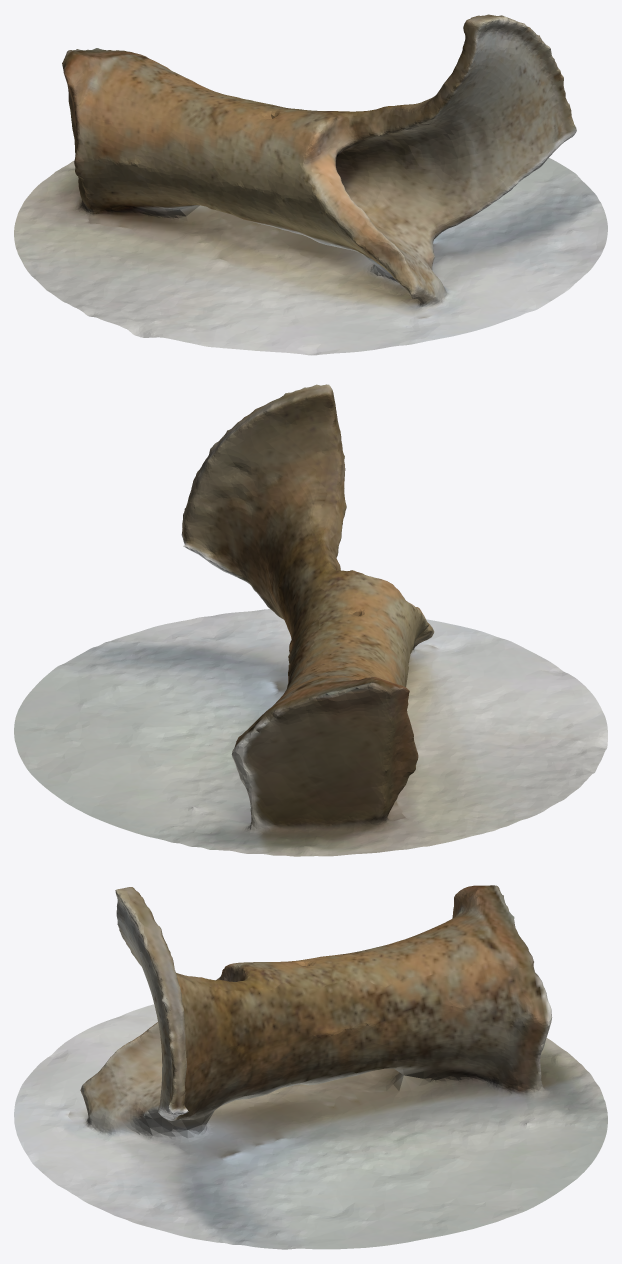
3 views of the same model, one above another, from view 1: azimuth 30°, elevation 25°; view 2: azimuth 150°, elevation 25°; view 3: azimuth 270°, elevation 25° (orthographic). The views are drawn at different scales.
Visible parts, largest first — view 1: mesh; view 2: mesh; view 3: mesh.
Boxes of the visible parts, x1=… form: mesh: x1=14, y1=14, x2=607, y2=355; mesh: x1=14, y1=384, x2=607, y2=856; mesh: x1=14, y1=885, x2=607, y2=1249.
Bounding box in the file's own units: 0.2263 × 0.1105 × 0.2187.
Materials: 1 (1 with a texture image).
